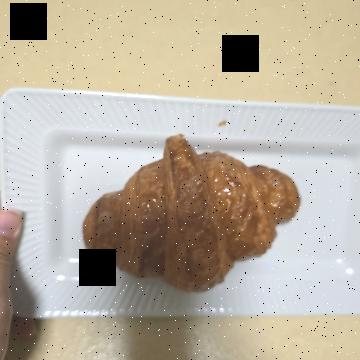croissant: (121, 63, 304, 303)
